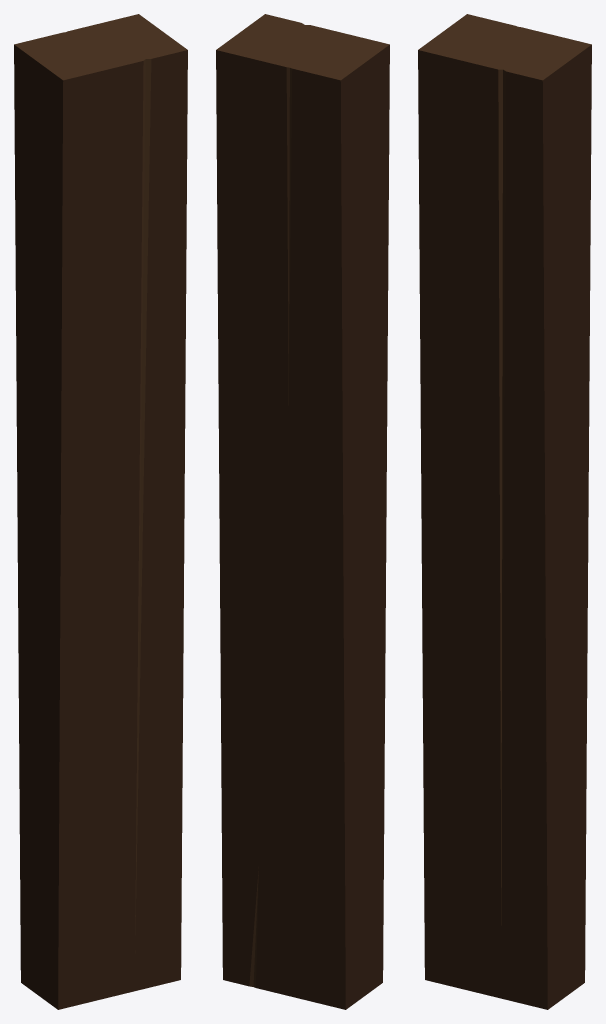
The model's file is Cave_Lair_Wooden_Timber_Beam_01.fbx.
The picture shows the model from 3 angles, left to right: view 1: azimuth 30°, elevation 25°; view 2: azimuth 150°, elevation 25°; view 3: azimuth 330°, elevation 25°; orthographic projection.
Parts seen in each view (by area): view 1: Cave_Lair_Wooden_Timber_Beam_01; view 2: Cave_Lair_Wooden_Timber_Beam_01; view 3: Cave_Lair_Wooden_Timber_Beam_01.
Boxes of the visible parts, x1,y1,x2,y2 form: Cave_Lair_Wooden_Timber_Beam_01: (14, 14, 187, 1009); Cave_Lair_Wooden_Timber_Beam_01: (216, 14, 389, 1009); Cave_Lair_Wooden_Timber_Beam_01: (418, 14, 591, 1009).
Size of the model in its own units: 0.5042 by 3.61 by 0.344.
